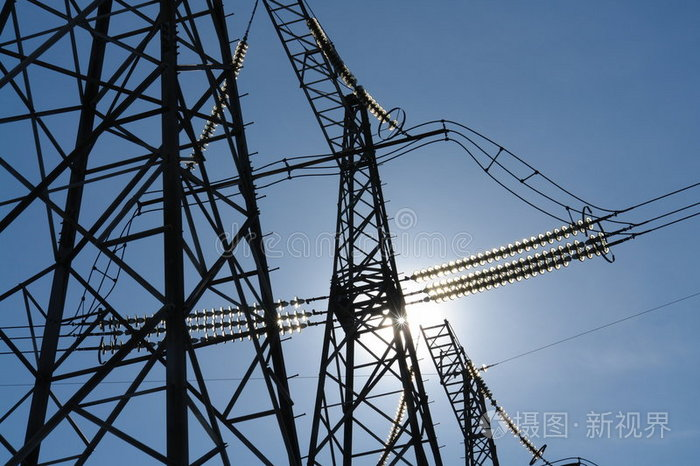insulator: (416, 219, 611, 305), (106, 293, 306, 354), (468, 360, 546, 462), (189, 39, 246, 162), (305, 13, 357, 86), (355, 83, 403, 132), (377, 398, 406, 465)
